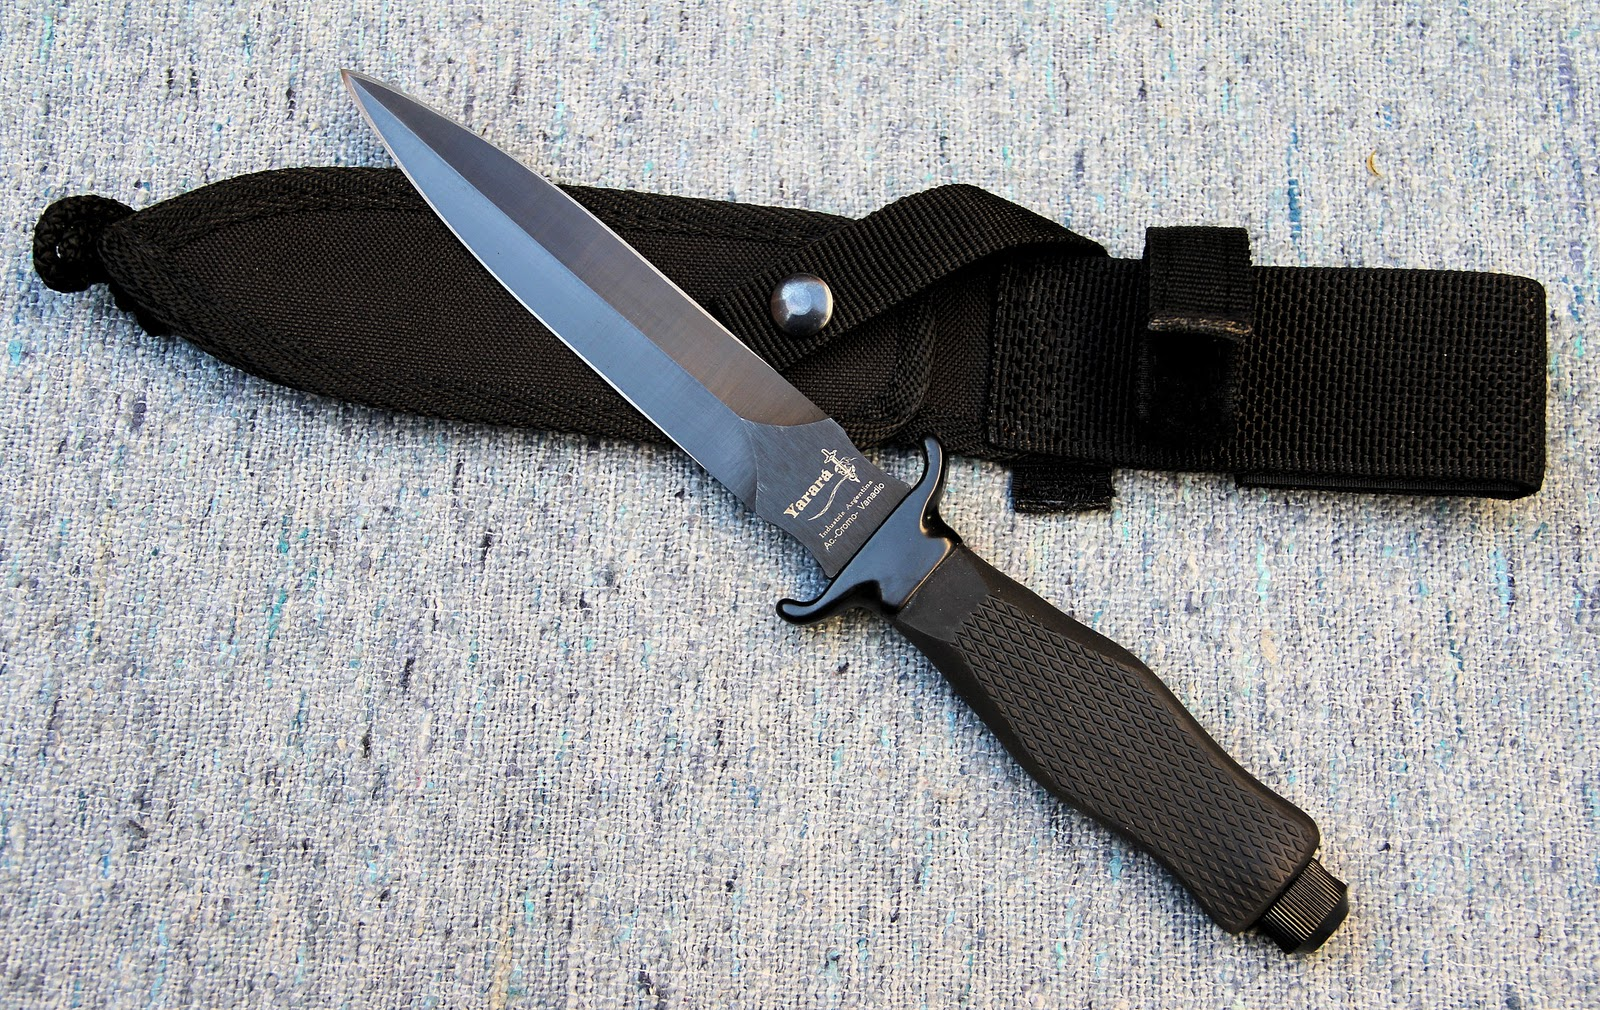knife: (322, 51, 859, 528)
